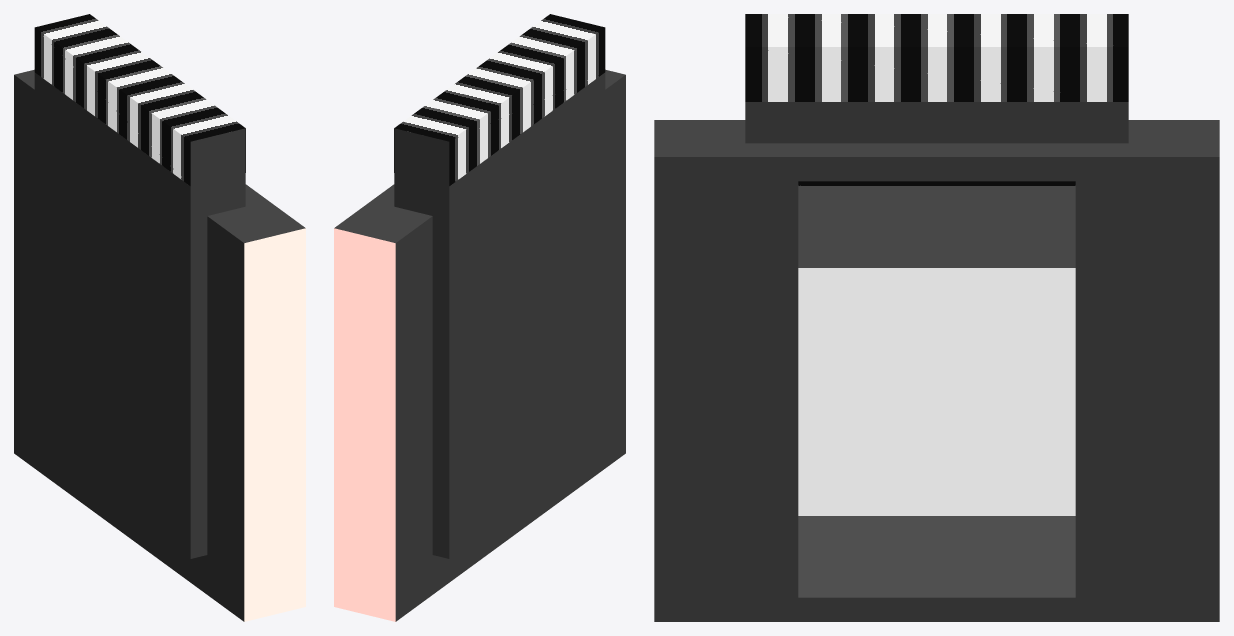
File: chip_drop.glb
3 views of the same model, side by side, from view 1: azimuth 30°, elevation 25°; view 2: azimuth 150°, elevation 25°; view 3: azimuth 270°, elevation 25° (orthographic). The views are drawn at different scales.
Visible parts, largest first — view 1: Cube.001; view 2: Cube.001; view 3: Cube.001.
Boxes of the visible parts, left/top/right/bottom form: Cube.001: left=14, top=14, right=305, bottom=621; Cube.001: left=334, top=14, right=625, bottom=621; Cube.001: left=654, top=14, right=1219, bottom=621.
Bounding box in the file's own units: 0.0816 × 0.4564 × 0.4166.
Materials: 3 (1 with a texture image).
